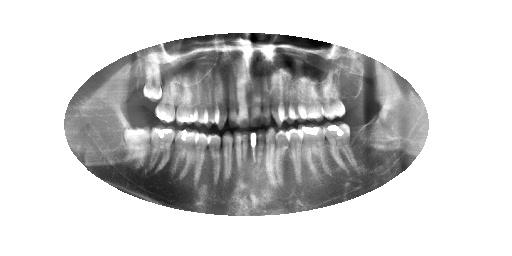Fillings: (323, 122, 360, 170), (299, 124, 329, 175), (153, 123, 175, 171), (177, 126, 196, 181), (175, 83, 200, 124), (286, 127, 303, 184)
